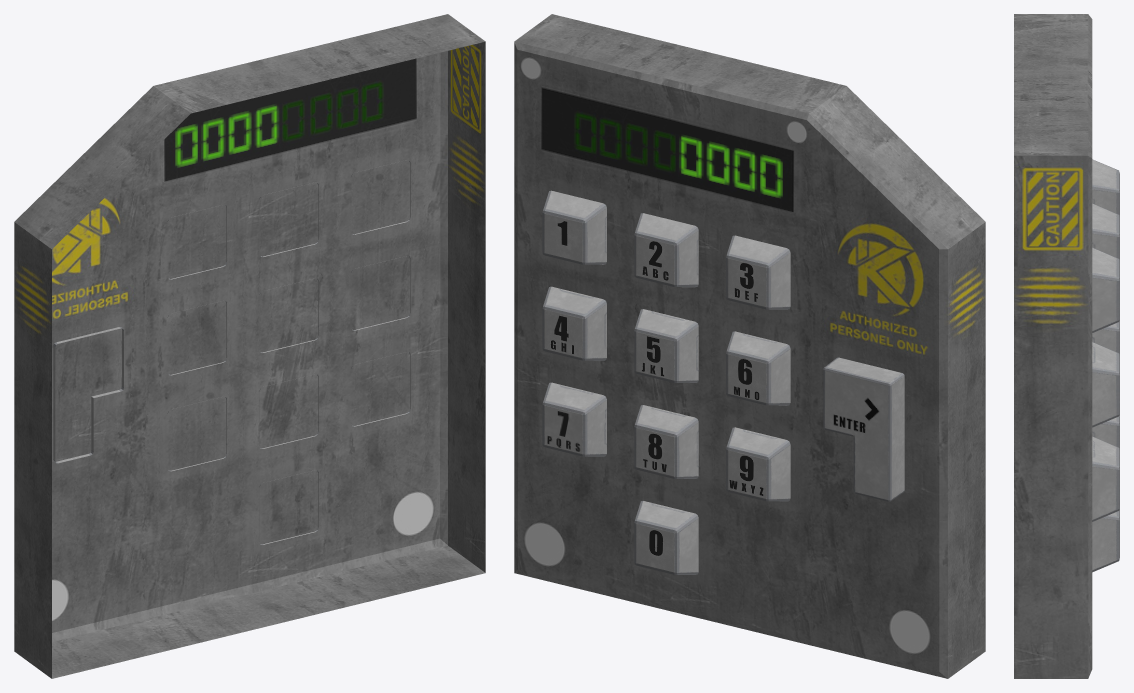
The model's file is keypad.glb.
3 views of the same model, side by side, from view 1: azimuth 30°, elevation 25°; view 2: azimuth 150°, elevation 25°; view 3: azimuth 270°, elevation 25° (orthographic).
Visible parts, largest first — view 1: Panel_low, Button_low; view 2: Panel_low, Button_low; view 3: Panel_low, Button_low.
Part boxes in pixels (<box>): Panel_low: <box>14,14,485,678</box>; Button_low: <box>53,160,410,544</box>; Panel_low: <box>514,14,985,678</box>; Button_low: <box>542,190,904,574</box>; Panel_low: <box>1014,14,1092,678</box>; Button_low: <box>1092,159,1119,572</box>.
Bounding box in the file's own units: 1.71 × 2 × 0.3669.
Materials: 2 (2 with a texture image).
